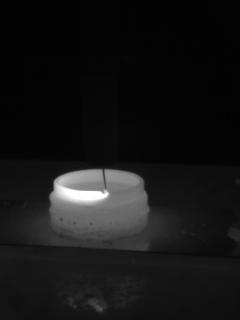tip_wire_left: (85, 161, 108, 194)
tip_wire_right: (104, 159, 119, 193)
